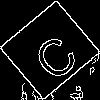C: (24, 25, 82, 85)
